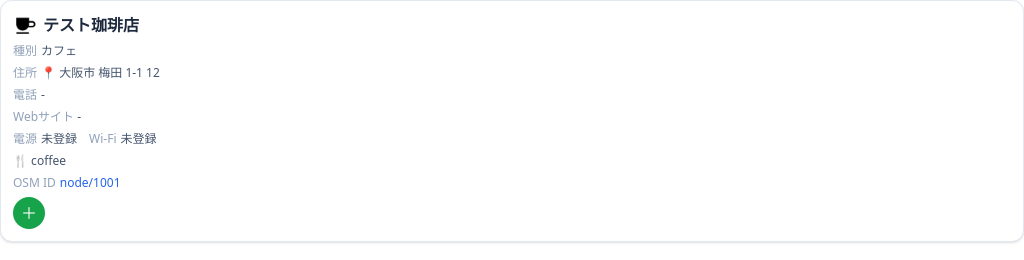
まちメモ帳ボタン（第2ピース） › もう一度押すとごみ箱へ移動され、表示が「メモ帳に追加」に戻る（toggle・論理削除）
Step 1. Click the button named "メモ帳に追加" → {"x": 29, "y": 213}, box x1=13 y1=197 x2=45 y2=229
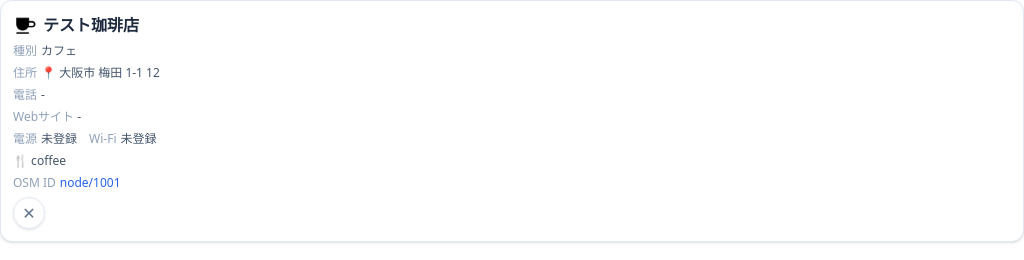
Step 2. Click the button named "メモ帳から削除" → {"x": 29, "y": 213}, box x1=13 y1=197 x2=45 y2=229
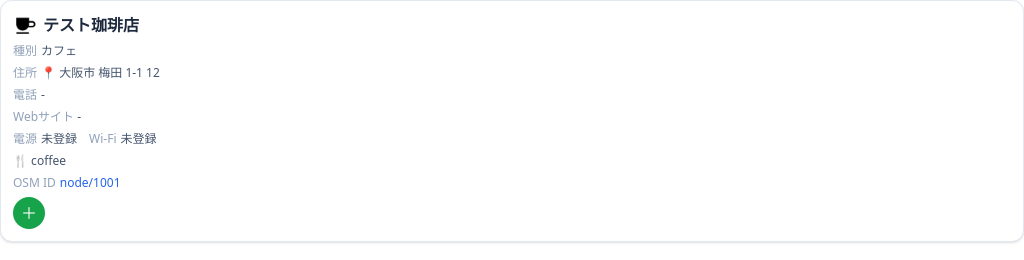
Expected: the button named "メモ帳に追加" is shown, x1=13 y1=197 x2=45 y2=229
